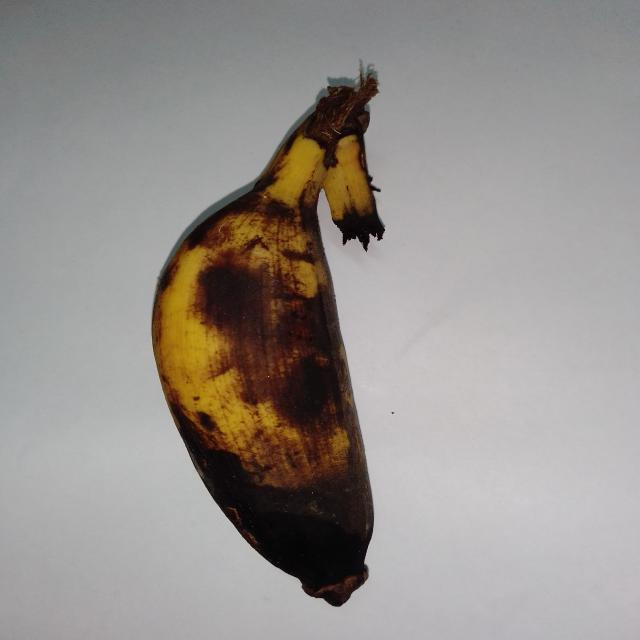banana: (153, 77, 382, 605)
